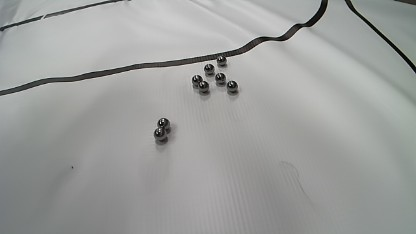ironball: (153, 127, 167, 141), (157, 117, 170, 130), (226, 80, 238, 92), (214, 72, 226, 84), (198, 80, 209, 92), (191, 75, 202, 86), (204, 64, 214, 75), (216, 55, 226, 66)
